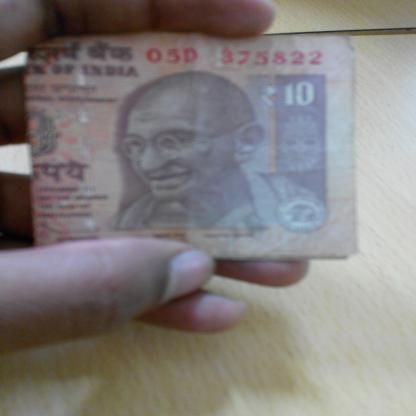Old10Front: (26, 32, 358, 261)
